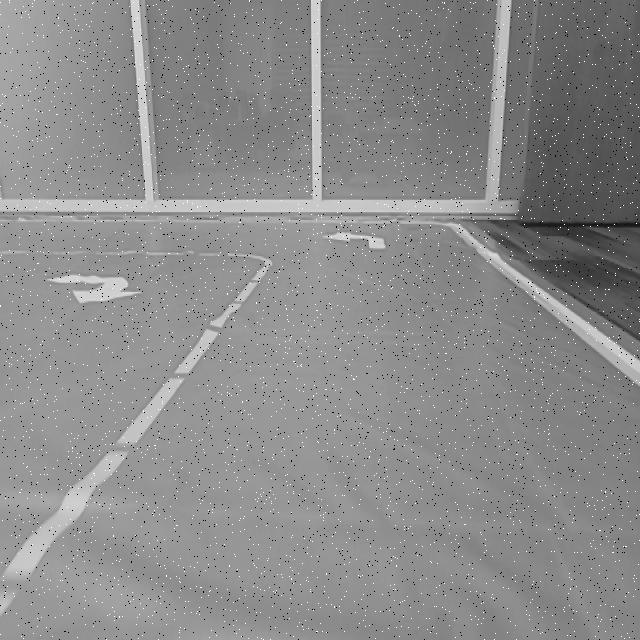left_lane: (0, 259, 276, 620)
right_lane: (449, 229, 640, 387)
